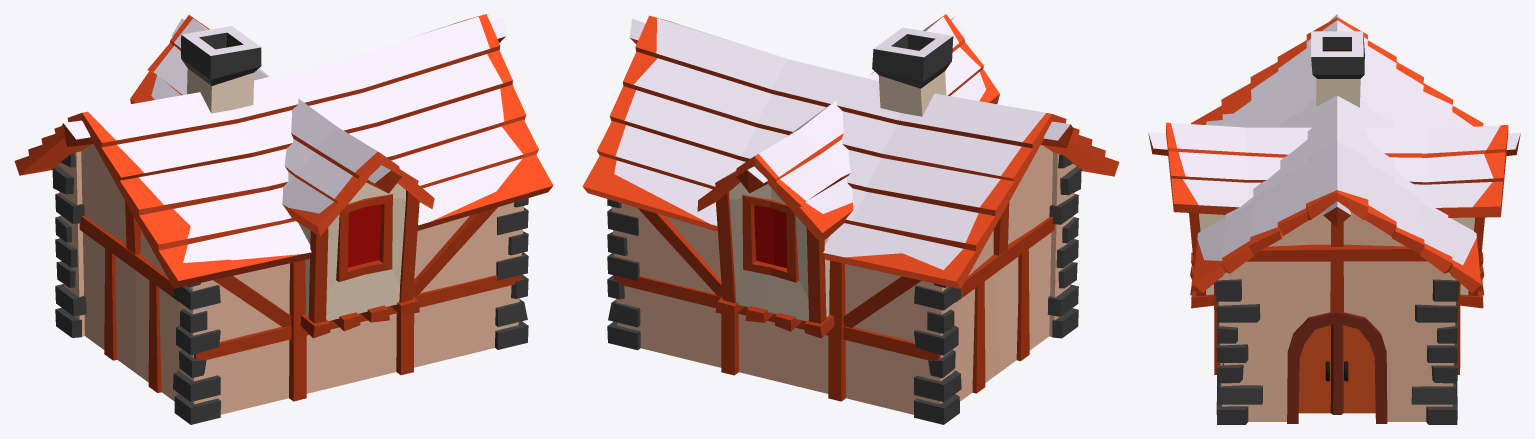
The model's file is low_poly_medieval_house_5.glb.
The picture shows the model from 3 angles, left to right: view 1: azimuth 30°, elevation 25°; view 2: azimuth 150°, elevation 25°; view 3: azimuth 270°, elevation 25°; orthographic projection. The views are drawn at different scales.
Visible parts, largest first — view 1: House5; view 2: House5; view 3: House5.
Part boxes in pixels (x1=…): House5: x1=14, y1=14, x2=553, y2=424; House5: x1=582, y1=14, x2=1119, y2=424; House5: x1=1148, y1=14, x2=1520, y2=424.
Size of what is drawn, in the model's own units: 5.88 by 3.99 by 4.84.
Materials: 1 (1 with a texture image).
